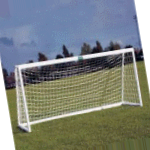goals: (12, 46, 144, 132)
